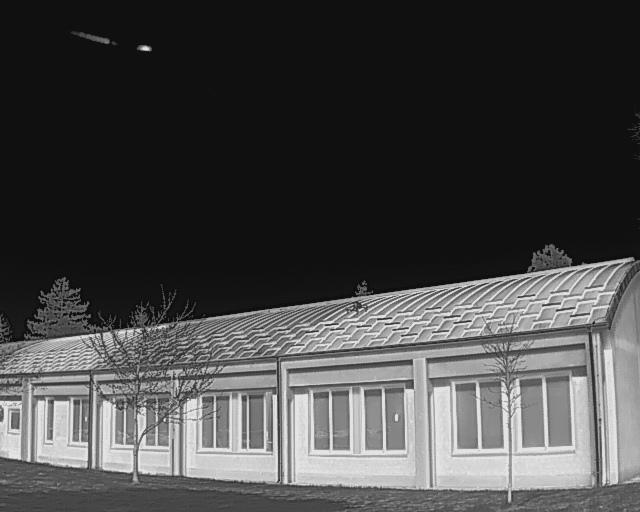drone: (342, 299, 370, 317)
